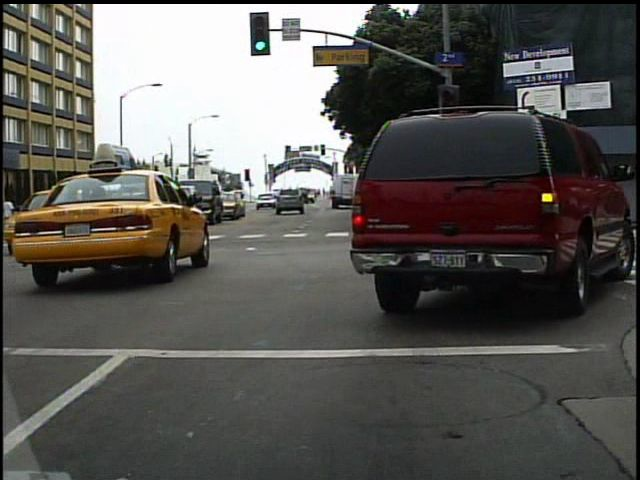person: (1, 192, 21, 233)
